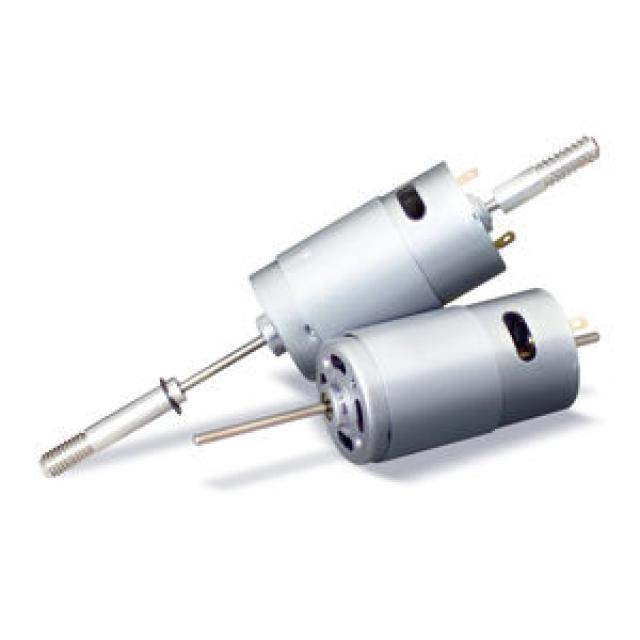motor: (25, 110, 639, 519), (176, 265, 632, 507)
